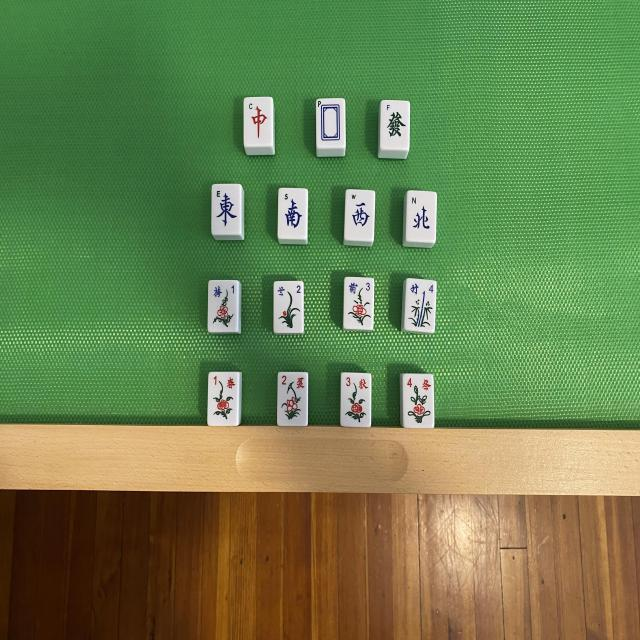bf1: (208, 281, 238, 331)
bf2: (274, 282, 303, 332)
bf3: (344, 276, 373, 328)
bf4: (407, 278, 435, 332)
bs1: (208, 373, 238, 424)
bs2: (278, 372, 308, 426)
bs3: (341, 374, 372, 426)
bs4: (403, 375, 434, 427)
hdg: (381, 101, 409, 151)
hdr: (244, 98, 272, 146)
hdw: (316, 99, 345, 148)
hwe: (212, 184, 240, 234)
hwn: (408, 191, 436, 241)
hws: (279, 189, 306, 238)
hww: (346, 190, 374, 238)
